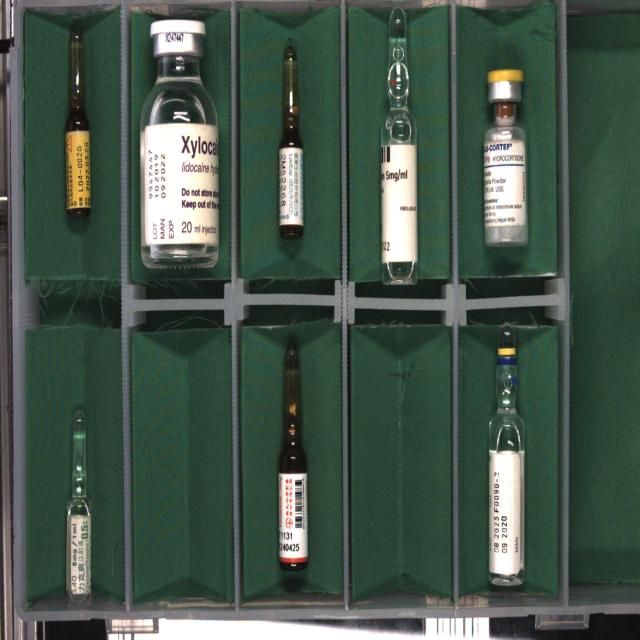Vials: (140, 20, 219, 269), (484, 69, 527, 246)
